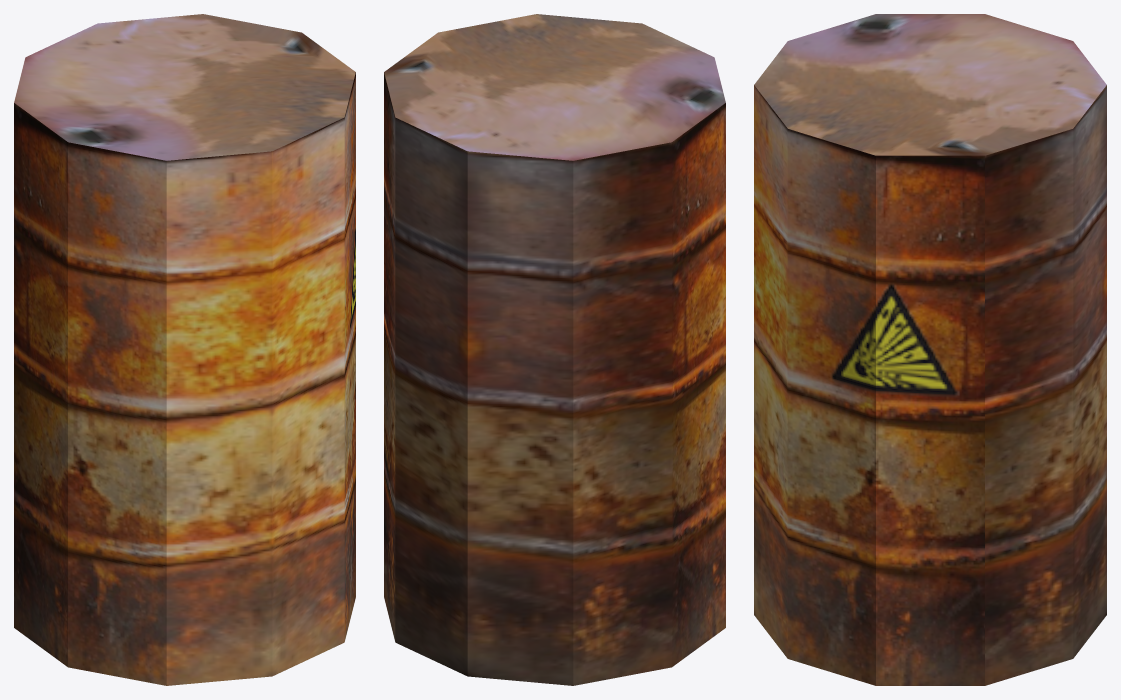
File: explosive_barrel.fbx
3 renders of one model, left to right at view 1: azimuth 30°, elevation 25°; view 2: azimuth 150°, elevation 25°; view 3: azimuth 270°, elevation 25°, orthographic.
Visible parts, largest first — view 1: Cylinder; view 2: Cylinder; view 3: Cylinder.
Boxes of the visible parts, x1,y1,x2,y2 form: Cylinder: (14, 14, 355, 685); Cylinder: (384, 14, 725, 685); Cylinder: (754, 14, 1106, 685).
Bounding box in the file's own units: 284 × 270 × 471.
